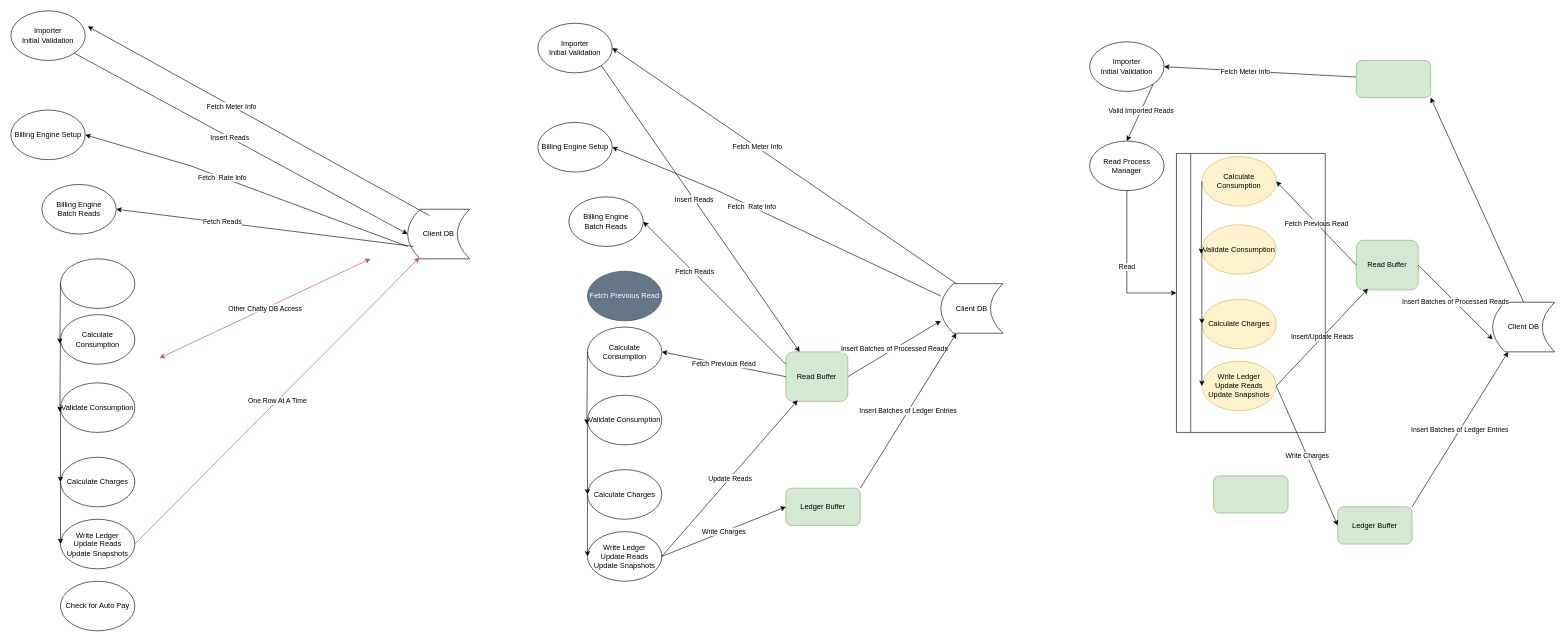
This 1566x642 diagram has some shape labels left out. The shapes that lost their labels are listed below. From the top down, each one's centre as x and y in pixels, then its label:
At (x=1393, y=79): "Meter Buffer".
At (x=97, y=283): "Find Previous Read".
At (x=1250, y=292): "1 - n Read Processor".
At (x=1250, y=494): "Other Buffers Snapshots Billing Cycle".
